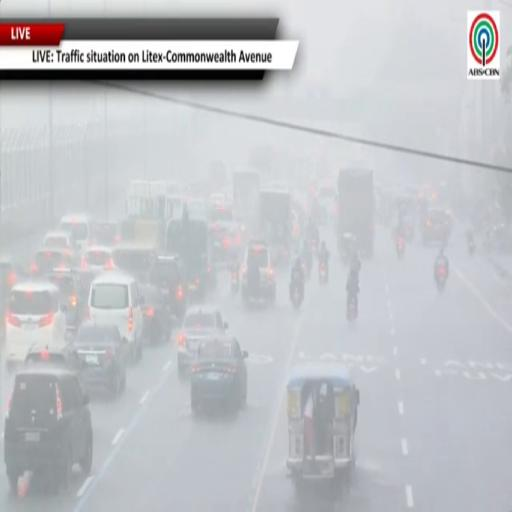car: (4, 365, 92, 493), (5, 281, 66, 369), (87, 271, 144, 361), (191, 339, 248, 412), (72, 322, 128, 396), (176, 306, 228, 379), (46, 268, 86, 332), (149, 255, 188, 318), (25, 344, 83, 385), (242, 240, 275, 302), (0, 256, 25, 333), (140, 285, 172, 344), (112, 244, 156, 283), (80, 246, 114, 289), (31, 248, 76, 276), (60, 214, 93, 252), (422, 207, 452, 245), (81, 246, 113, 275), (94, 220, 121, 246), (43, 231, 76, 251)
jeepney: (287, 363, 359, 490)
motorcycle: (291, 283, 303, 309), (436, 265, 447, 292), (347, 296, 357, 322), (230, 269, 240, 294), (302, 259, 312, 279), (319, 262, 327, 284), (396, 237, 404, 259), (468, 238, 476, 255)
truck: (166, 204, 216, 297), (337, 168, 374, 258), (259, 188, 292, 265), (232, 171, 260, 222)
